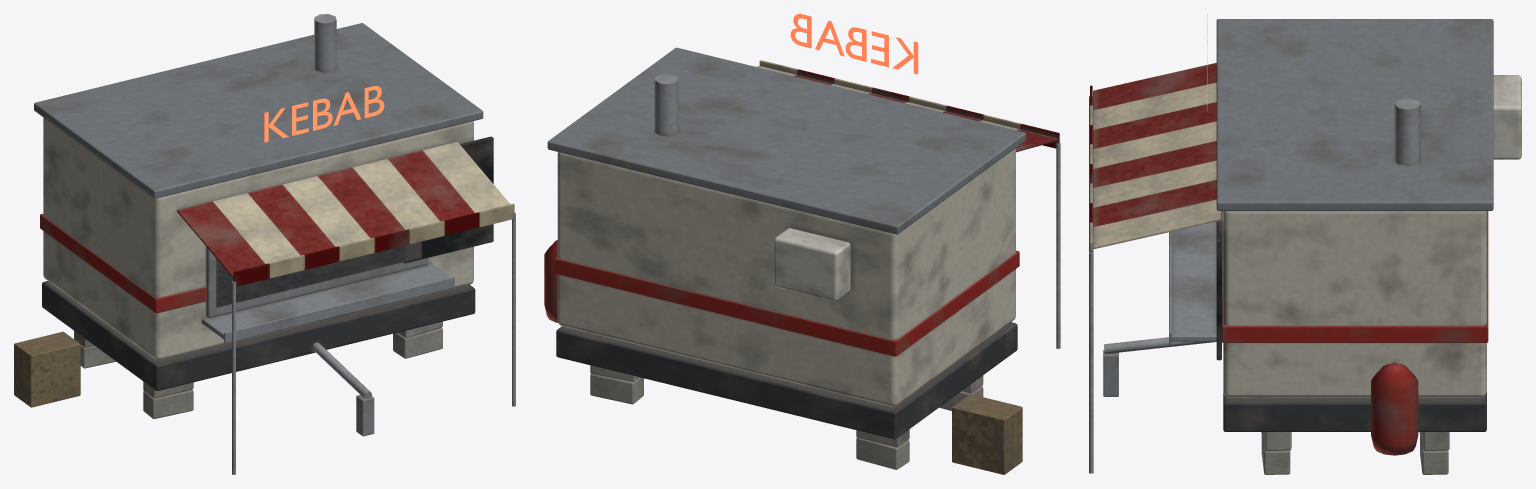
File: kebab_budka.glb
3 views of the same model, side by side, from view 1: azimuth 30°, elevation 25°; view 2: azimuth 150°, elevation 25°; view 3: azimuth 270°, elevation 25° (orthographic). The views are drawn at different scales.
Parts seen in each view (by area): view 1: Budka, Swiatlo; view 2: Budka, Swiatlo; view 3: Budka.
Part boxes in pixels (<box>): Budka: <box>14,14,515,474</box>; Swiatlo: <box>264,86,384,142</box>; Budka: <box>544,47,1060,474</box>; Swiatlo: <box>790,14,918,74</box>; Budka: <box>1089,19,1521,474</box>.
Size of the model in its own units: 4.33 by 2.91 by 3.28.
3 materials, 2 textured.
